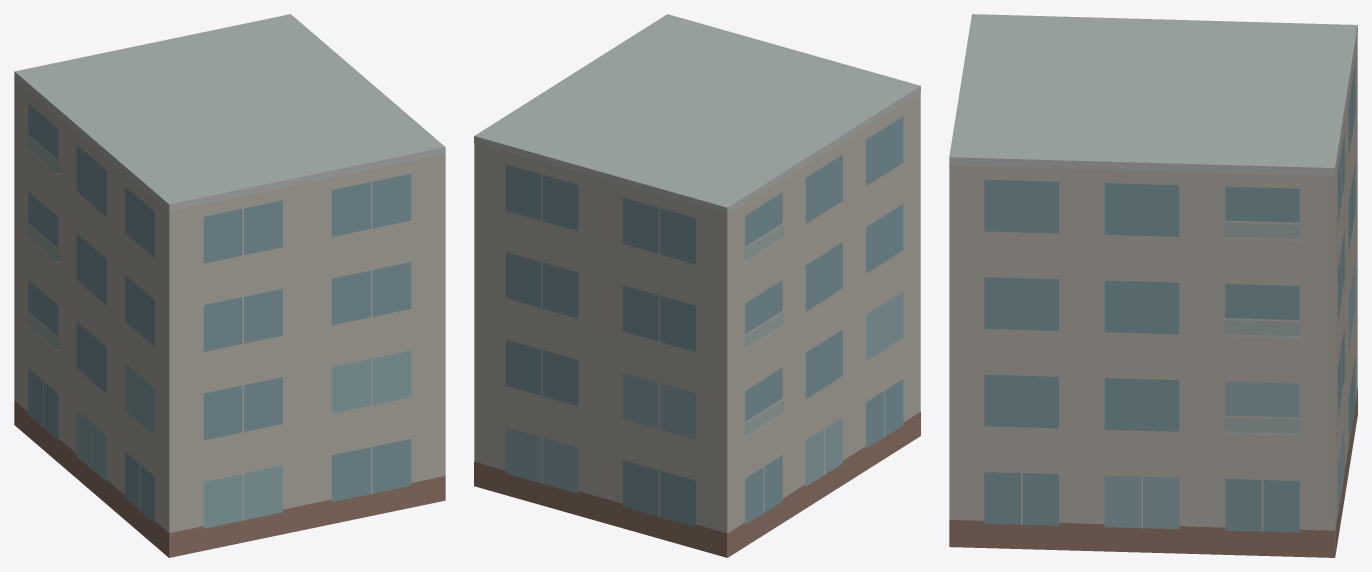
Rendered from survey-upis-32804610.glb.
3 views of the same model, side by side, from view 1: azimuth 30°, elevation 25°; view 2: azimuth 150°, elevation 25°; view 3: azimuth 270°, elevation 25° (orthographic). The views are drawn at different scales.
Visible parts, largest first — view 1: survey-upis-32804610.tmp; view 2: survey-upis-32804610.tmp; view 3: survey-upis-32804610.tmp.
Part boxes in pixels (x1=…): survey-upis-32804610.tmp: x1=14, y1=14, x2=445, y2=557; survey-upis-32804610.tmp: x1=474, y1=14, x2=920, y2=557; survey-upis-32804610.tmp: x1=949, y1=14, x2=1357, y2=557.
Bounding box in the file's own units: 10.35 × 12.2 × 11.6.
